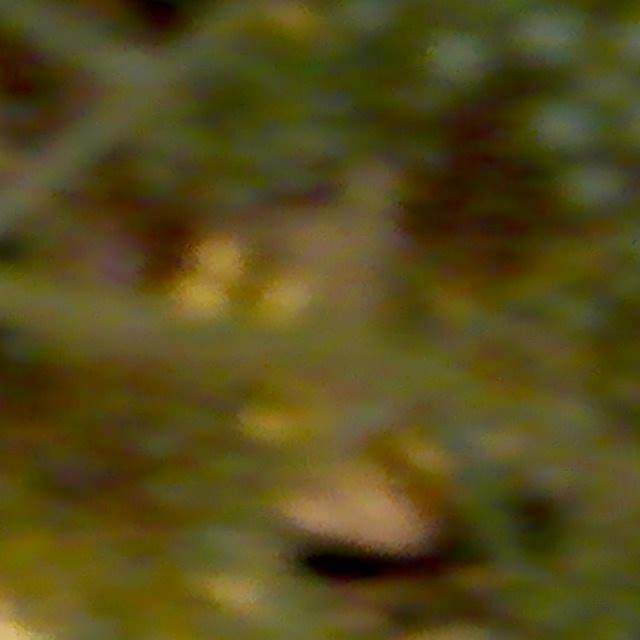SeaGrape: (519, 92, 607, 168), (412, 15, 489, 96), (518, 0, 592, 76), (560, 163, 628, 215)
